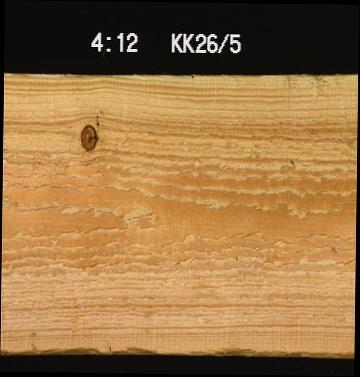dry_knot: (77, 122, 98, 152)
wave: (0, 338, 353, 354)
